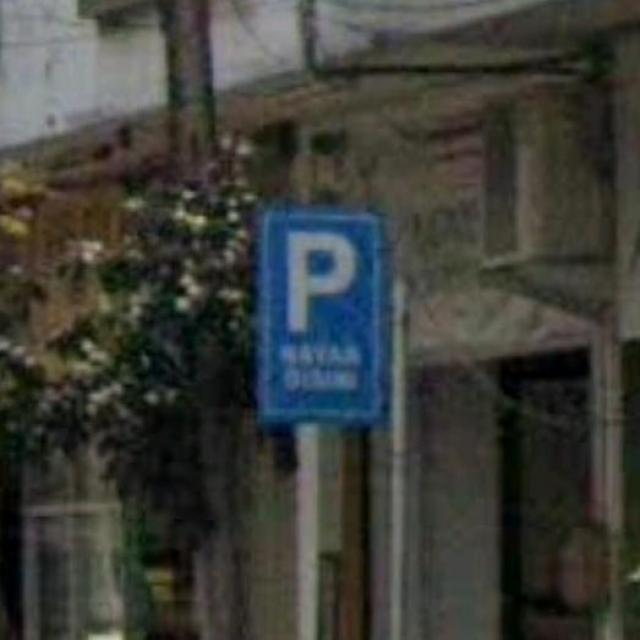traffic sign: (259, 209, 382, 422)
